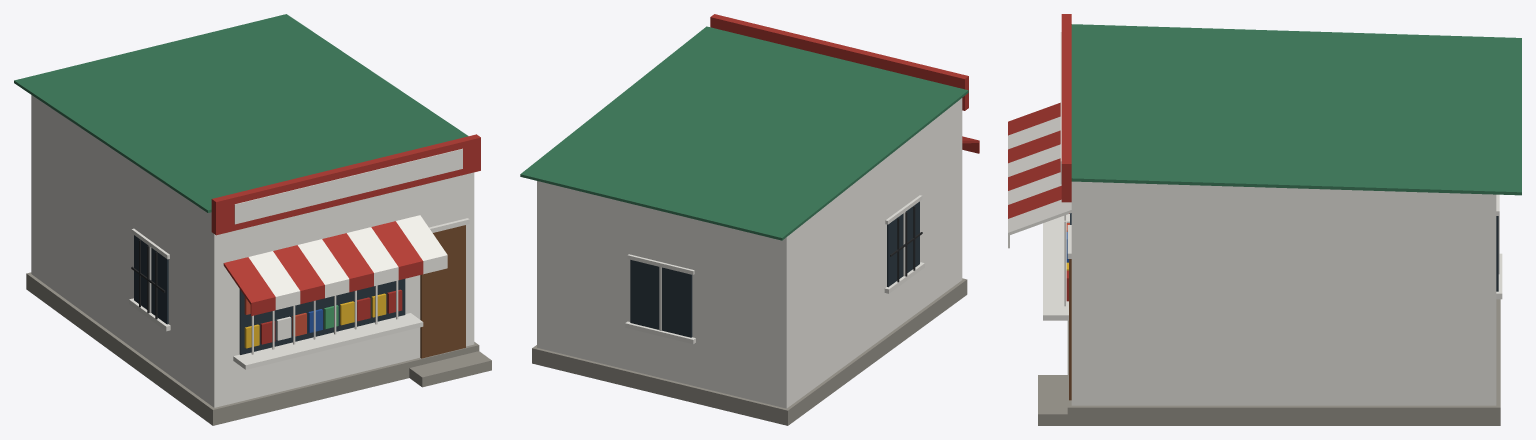
Rendered from BAY_F_Shop_B.glb.
The picture shows the model from 3 angles, left to right: view 1: azimuth 30°, elevation 25°; view 2: azimuth 150°, elevation 25°; view 3: azimuth 270°, elevation 25°; orthographic projection. The views are drawn at different scales.
Visible parts, largest first — view 1: BAY_F_Shop_B; view 2: BAY_F_Shop_B; view 3: BAY_F_Shop_B.
Part boxes in pixels (x1,y1,x2,y2): BAY_F_Shop_B: [14, 14, 491, 425]; BAY_F_Shop_B: [520, 14, 979, 425]; BAY_F_Shop_B: [1008, 14, 1521, 425].
Bounding box in the file's own units: 4.3 × 3.4 × 6.05.
Materials: 1 (1 with a texture image).
